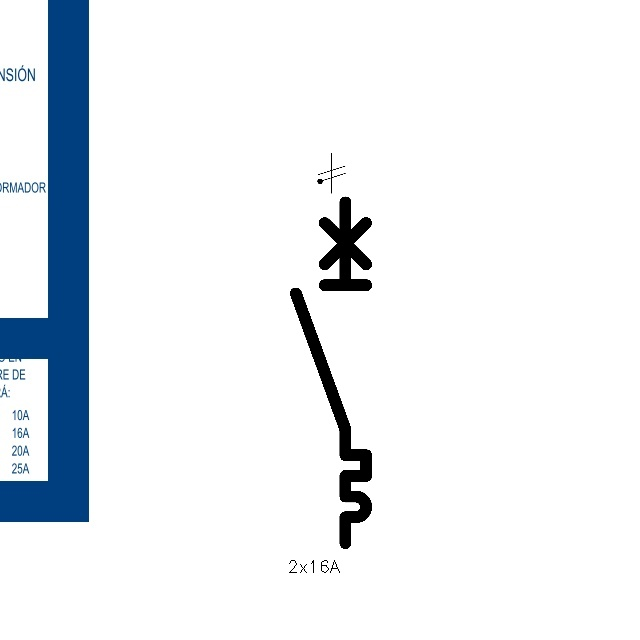interruptor_termomagnetico: (287, 193, 375, 551)
